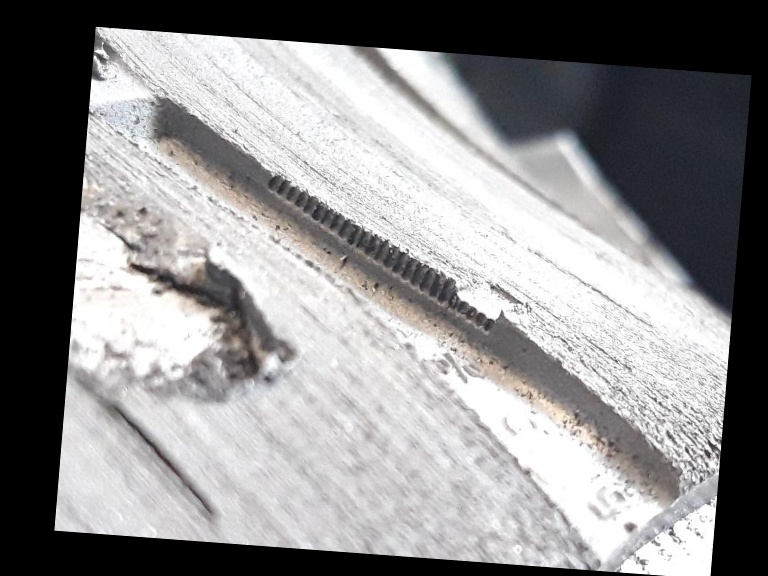temoin:0: (405, 233, 539, 349)
